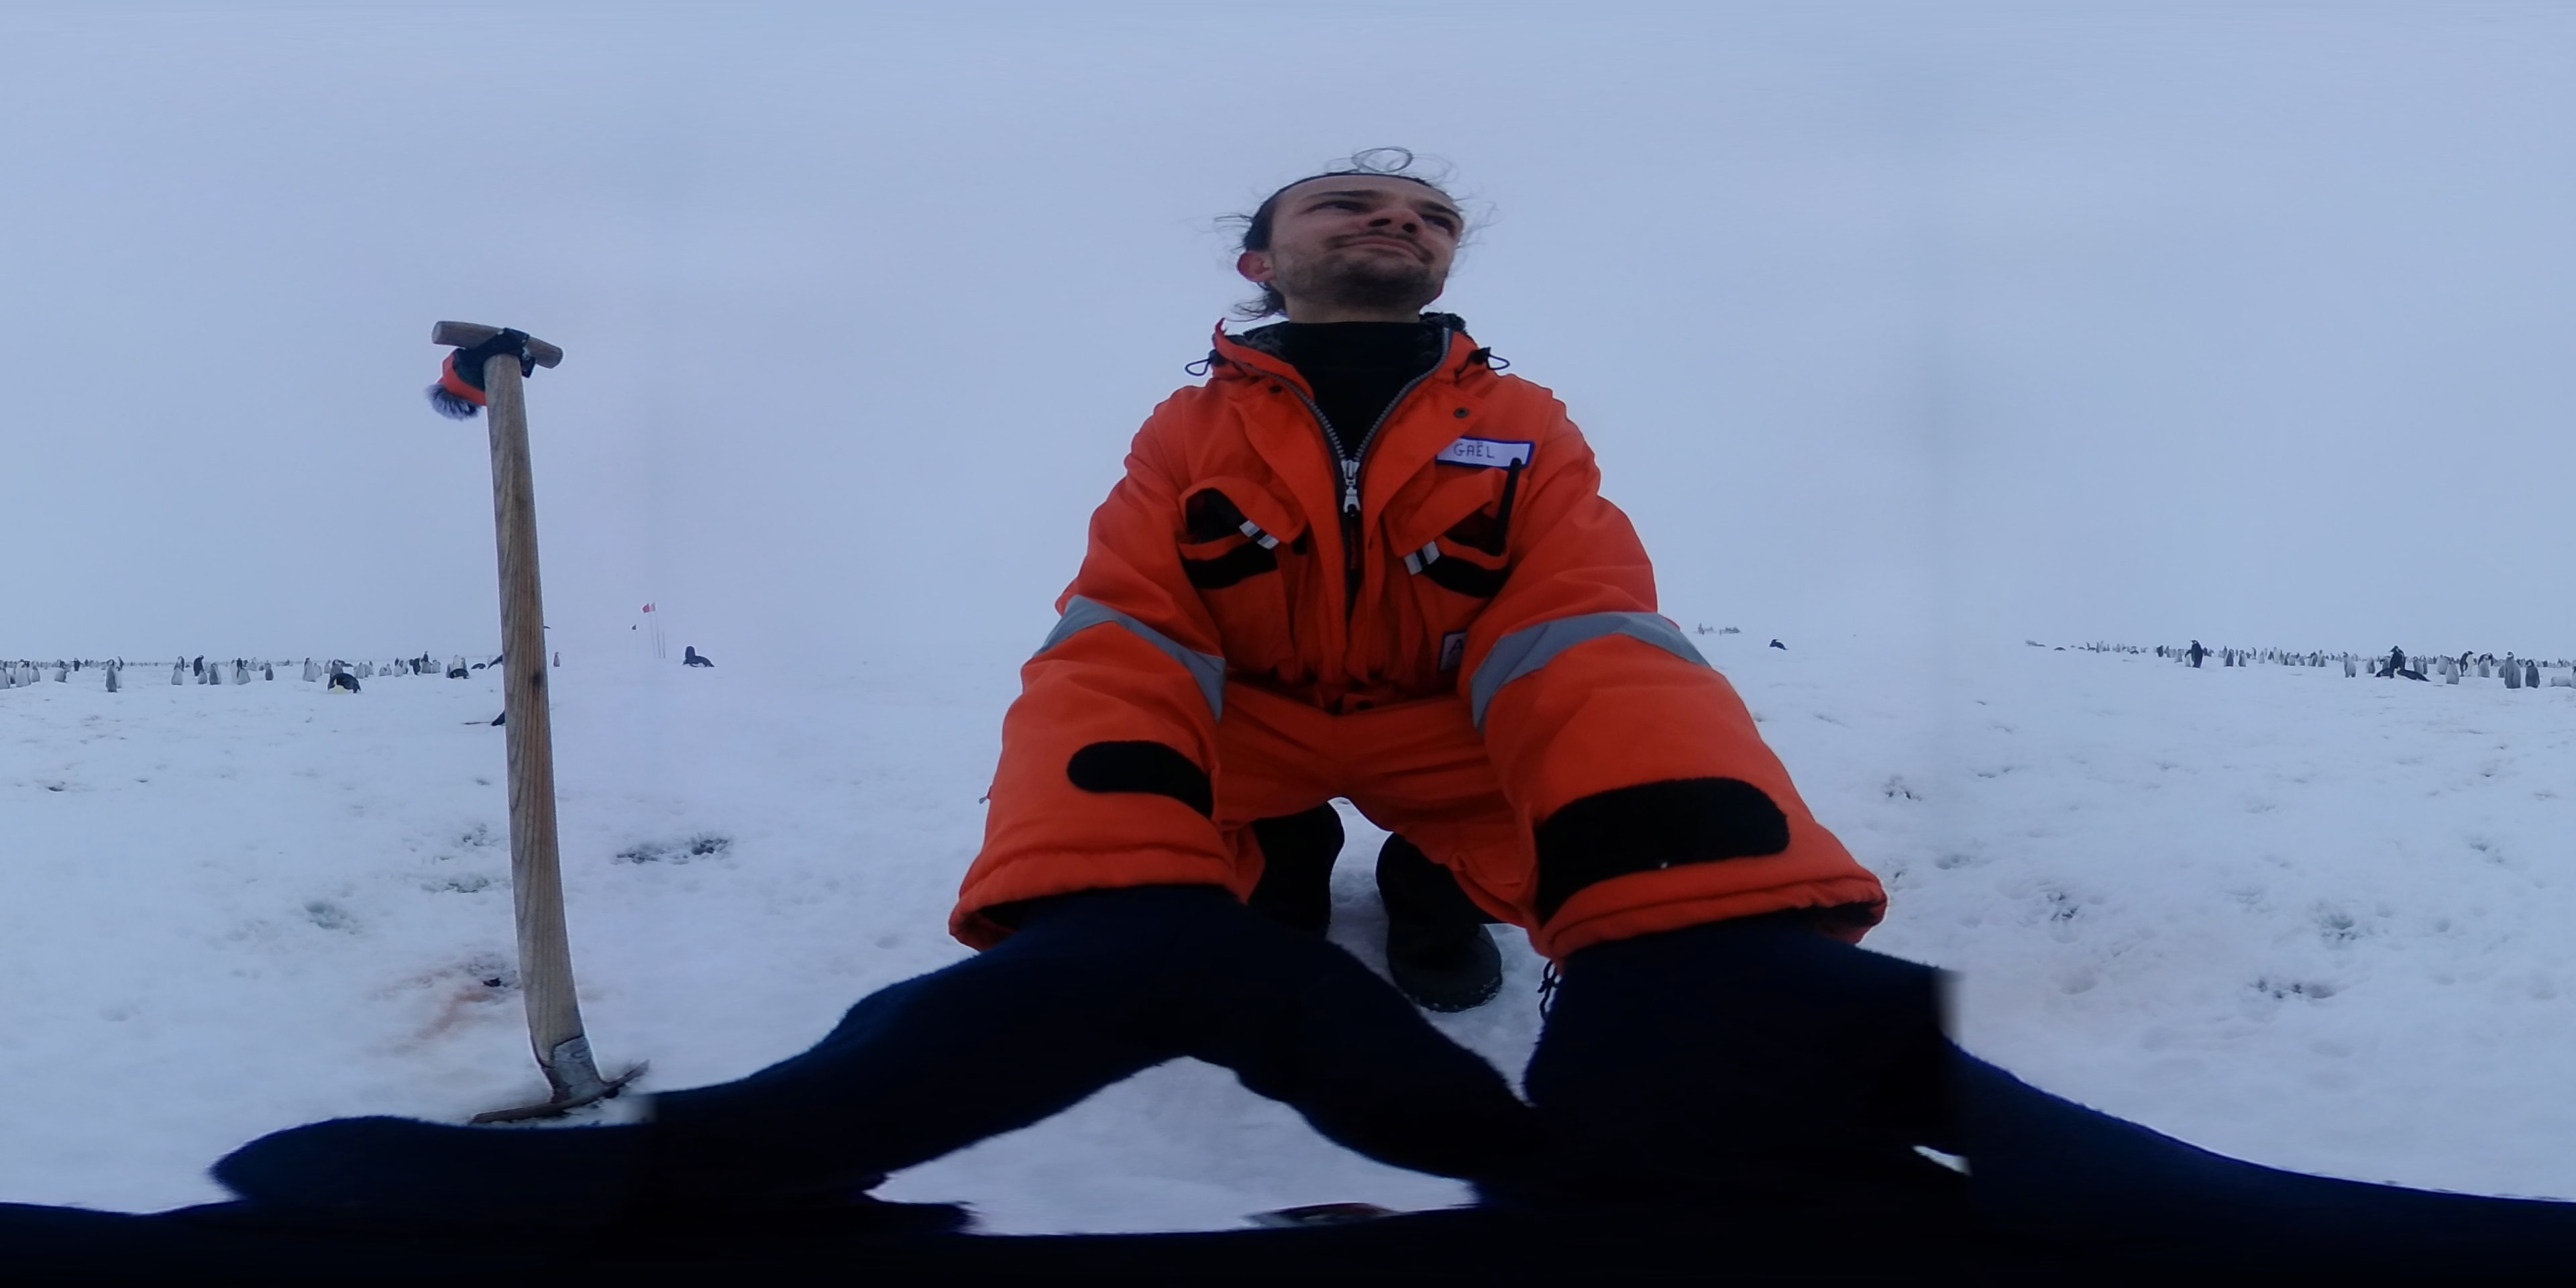adult_standing_penguin: (2459, 647, 2477, 678), (2188, 637, 2203, 672)
adult_toboggan_penguin: (2389, 660, 2430, 683), (325, 672, 366, 692), (680, 652, 720, 670), (447, 669, 471, 678)
juvenile_penguin: (102, 657, 122, 697), (2502, 654, 2523, 688), (15, 662, 36, 688), (2341, 652, 2361, 678), (2443, 659, 2461, 687), (233, 662, 253, 687), (2525, 660, 2540, 690), (2546, 674, 2571, 688), (171, 664, 187, 685), (207, 662, 223, 683), (301, 660, 315, 683), (2224, 647, 2236, 669), (549, 654, 563, 669)
researcher: (923, 117, 1888, 1055)
